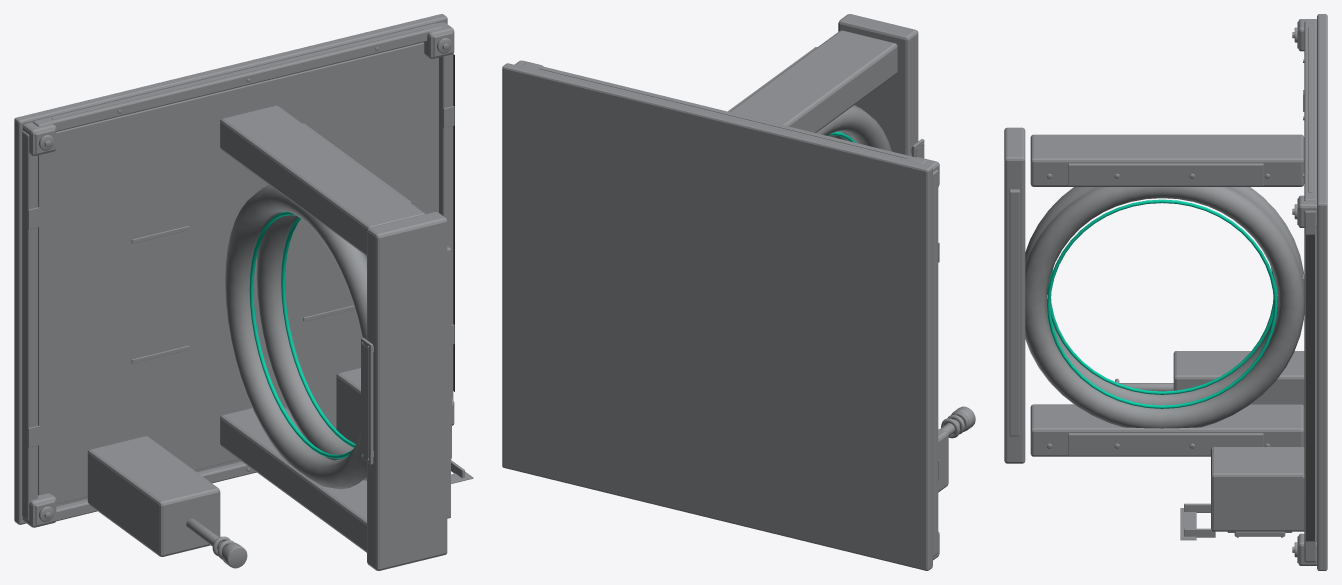
Rendered from SM_TeleporterTravelHub.obj.
3 views of the same model, side by side, from view 1: azimuth 30°, elevation 25°; view 2: azimuth 150°, elevation 25°; view 3: azimuth 270°, elevation 25° (orthographic). The views are drawn at different scales.
Visible parts, largest first — view 1: SM_TeleporterTravelHub; view 2: SM_TeleporterTravelHub; view 3: SM_TeleporterTravelHub.
Boxes of the visible parts, left/top/right/bottom form: SM_TeleporterTravelHub: left=14, top=14, right=473, bottom=570; SM_TeleporterTravelHub: left=502, top=14, right=975, bottom=570; SM_TeleporterTravelHub: left=1004, top=14, right=1327, bottom=570.
Size of the model in its own units: 600 by 540 by 430.
